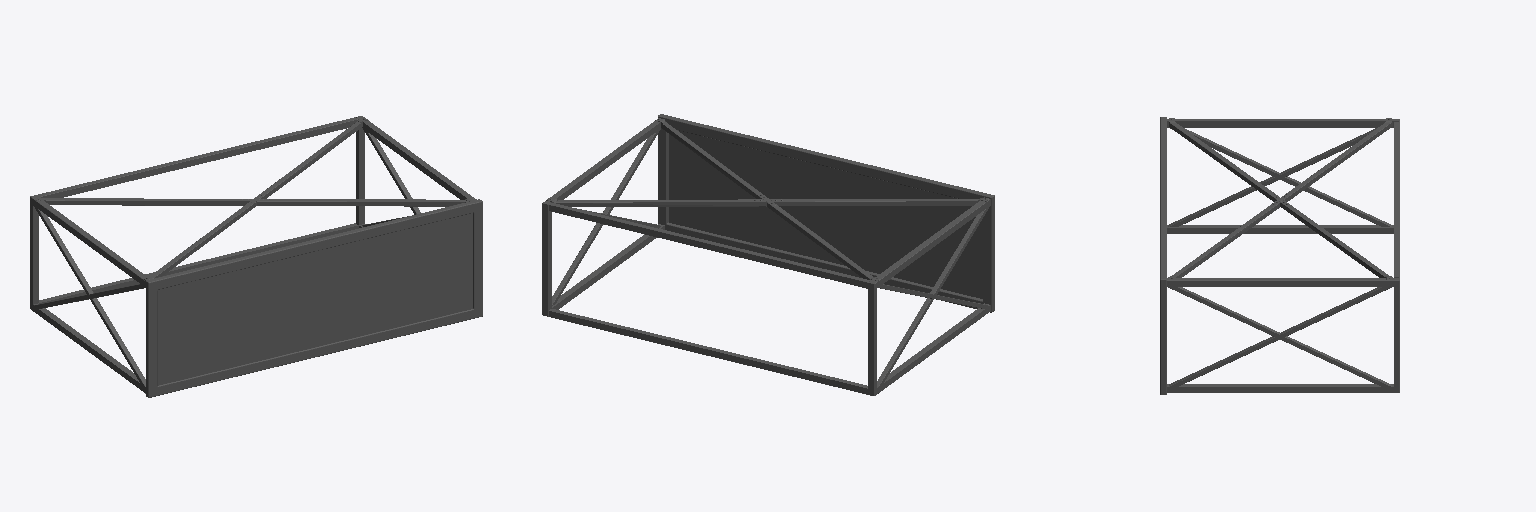
File: table.obj
The picture shows the model from 3 angles: view 1: azimuth 30°, elevation 25°; view 2: azimuth 150°, elevation 25°; view 3: azimuth 270°, elevation 25°; orthographic projection.
Bounding box in the file's own units: 1.64 × 0.5413 × 1.01.